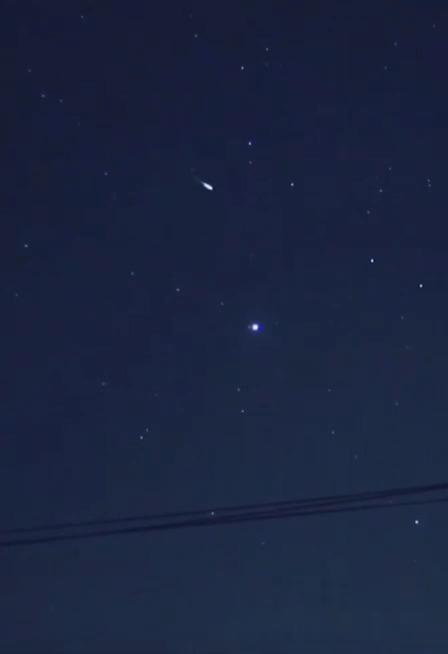meteorite: (184, 171, 226, 197)
